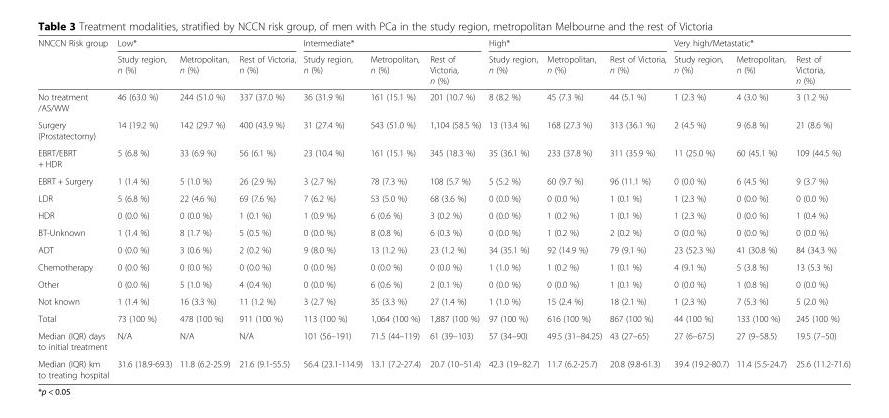table: (37, 37, 849, 379)
table column: (37, 37, 112, 379), (233, 37, 299, 379), (299, 37, 365, 379), (605, 37, 669, 379), (112, 37, 175, 379), (542, 37, 605, 379), (669, 37, 731, 379), (424, 37, 484, 379), (365, 37, 424, 379), (731, 37, 790, 379), (790, 37, 849, 379), (175, 37, 233, 379), (484, 37, 542, 379)
table column header: (37, 37, 849, 88)
table row: (37, 50, 849, 88), (37, 143, 849, 172), (37, 115, 849, 143), (37, 326, 849, 354), (37, 88, 849, 115), (37, 354, 849, 379), (37, 257, 849, 275), (37, 172, 849, 189), (37, 189, 849, 206), (37, 206, 849, 223), (37, 223, 849, 240), (37, 240, 849, 257), (37, 275, 849, 292), (37, 292, 849, 309), (37, 309, 849, 326), (37, 37, 849, 50)
table spanning cell: (37, 37, 112, 88), (112, 37, 299, 50), (299, 37, 484, 50), (484, 37, 669, 50), (669, 37, 849, 50)
